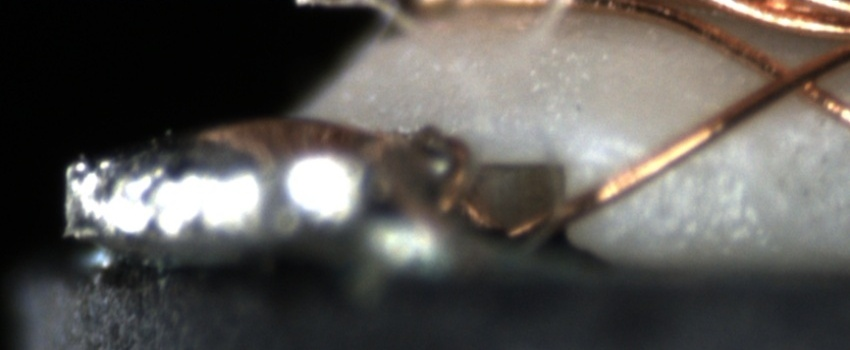CL: (753, 46, 841, 108)
DL: (582, 141, 739, 185)
TE: (367, 120, 513, 231)
